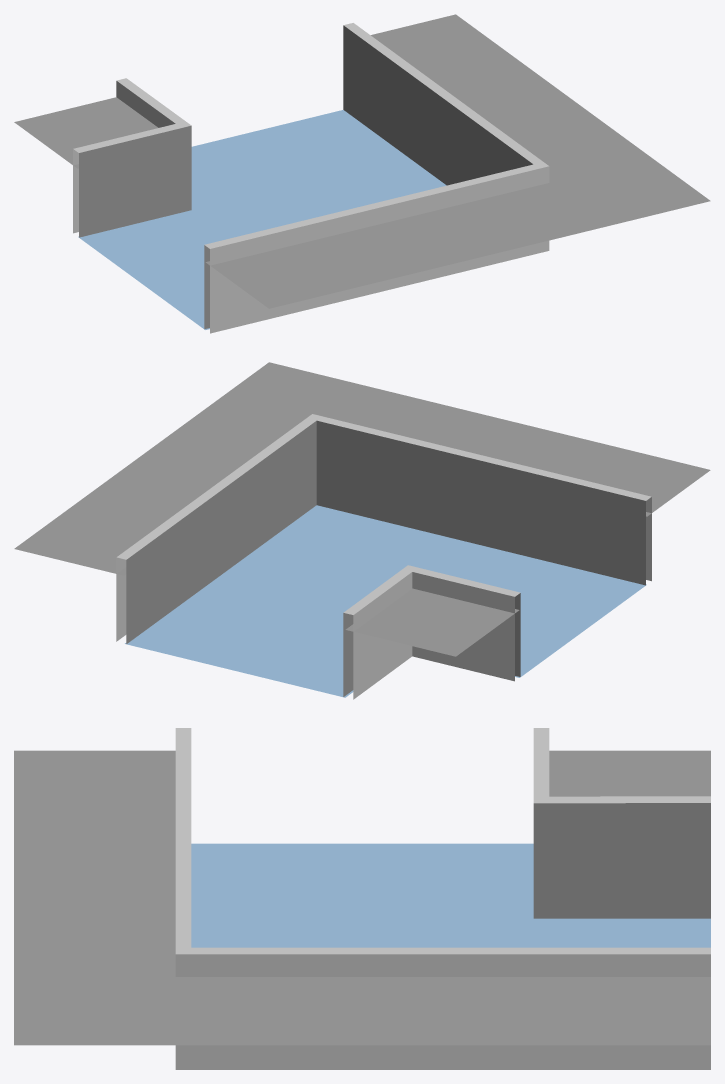
Rendered from road_tile_river_1x1_001.fbx.
3 views of the same model, one above another, from view 1: azimuth 30°, elevation 25°; view 2: azimuth 150°, elevation 25°; view 3: azimuth 270°, elevation 25° (orthographic). The views are drawn at different scales.
Visible parts, largest first — view 1: road_tile_river_1x1_001; view 2: road_tile_river_1x1_001; view 3: road_tile_river_1x1_001.
Boxes of the visible parts, <box> form: road_tile_river_1x1_001: <box>14,14,710,333</box>; road_tile_river_1x1_001: <box>14,362,710,699</box>; road_tile_river_1x1_001: <box>14,728,710,1069</box>.
Size of the model in its own units: 800 by 146 by 800.
